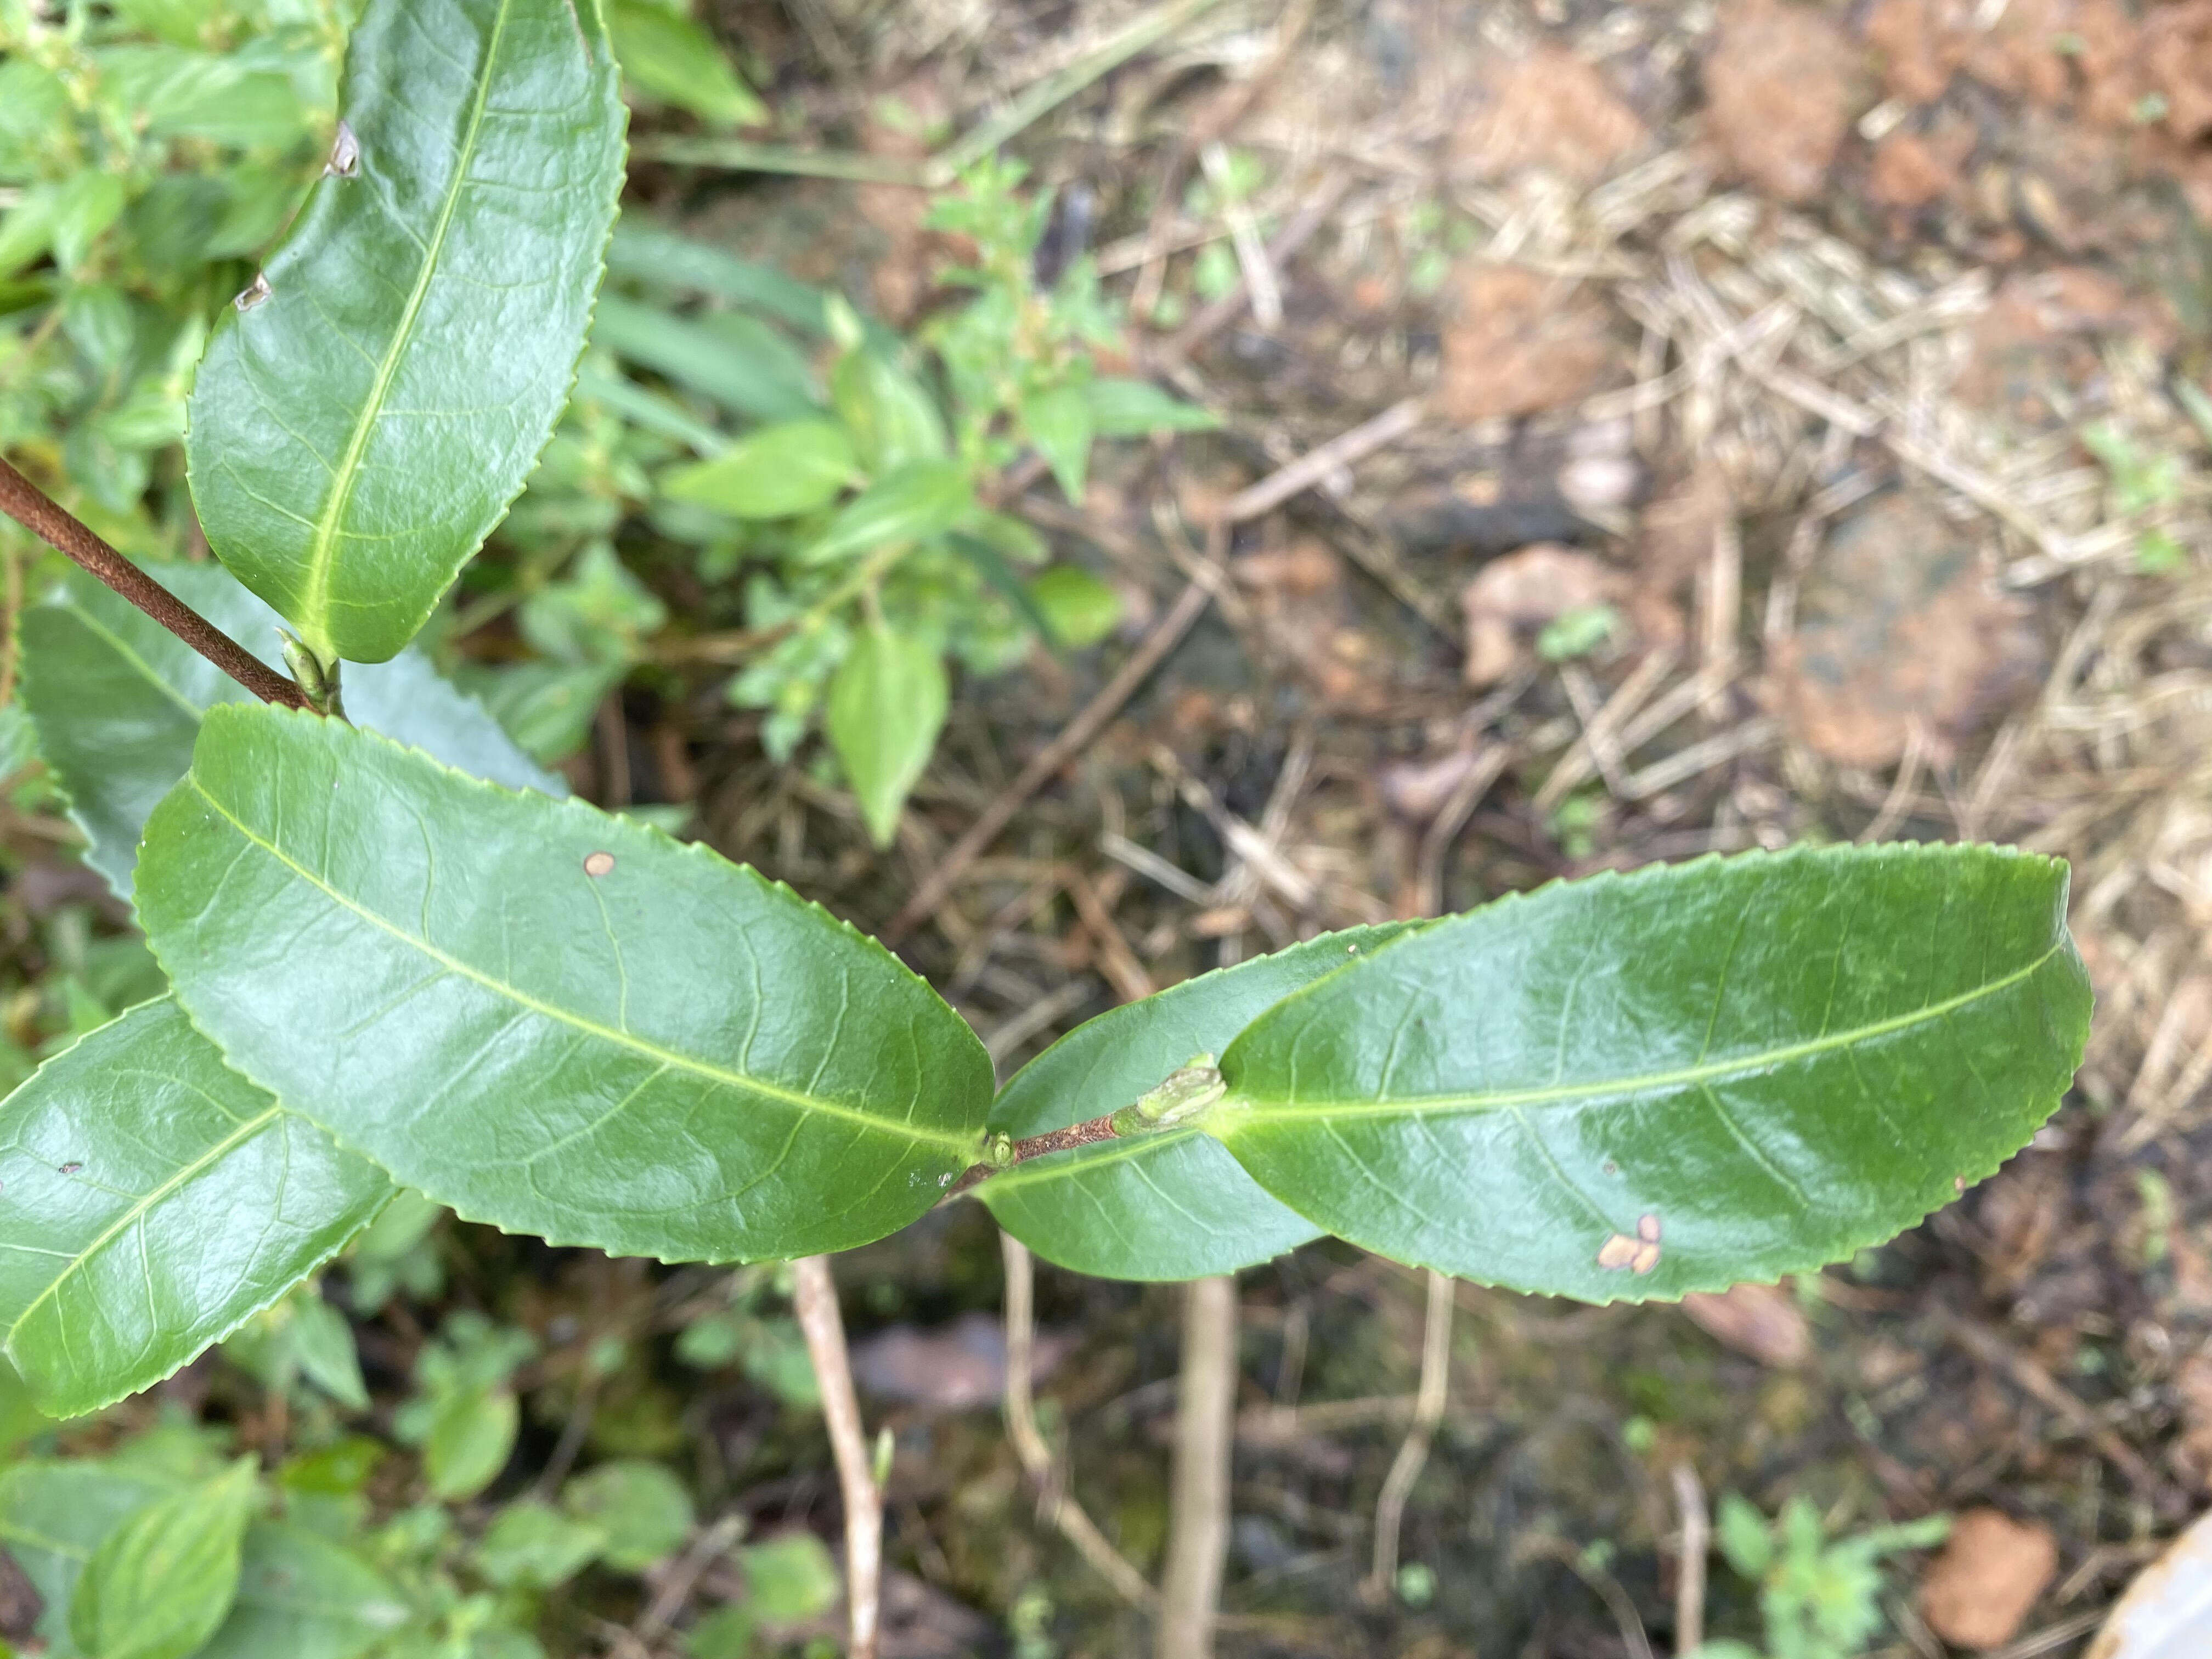tanju_low: (131, 699, 1000, 1269), (1207, 838, 2099, 1304), (185, 3, 631, 664), (3, 993, 404, 1420)
